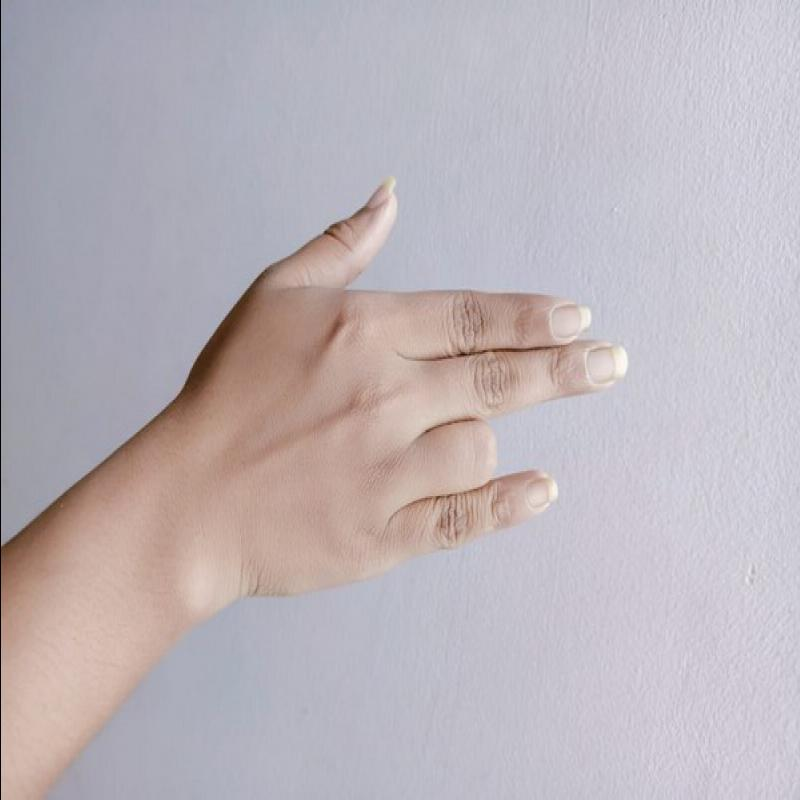Pathaaka: (161, 149, 643, 629)
